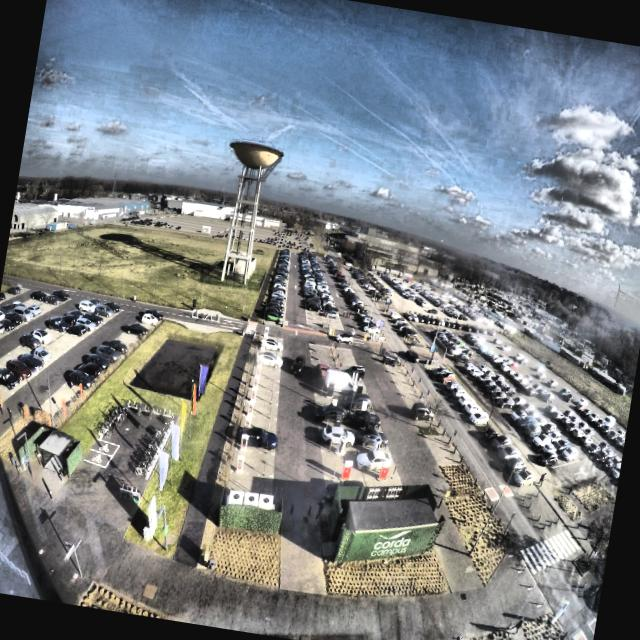cabinet: (230, 489, 273, 506)
car: (232, 424, 278, 451), (247, 391, 282, 414), (254, 351, 282, 367), (290, 351, 306, 378), (260, 335, 284, 352)
parking: (232, 448, 276, 477), (228, 470, 273, 496), (236, 430, 276, 454), (240, 413, 278, 435), (244, 398, 279, 418), (246, 386, 279, 402), (254, 354, 282, 370), (258, 342, 282, 358), (251, 366, 280, 379), (249, 376, 279, 388), (260, 336, 283, 346)
